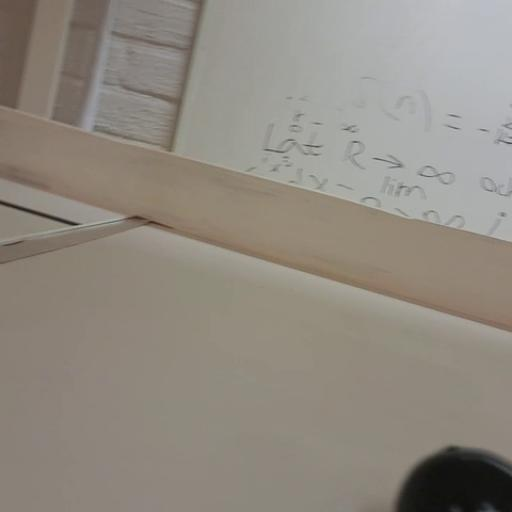dead: (391, 447, 512, 512)
